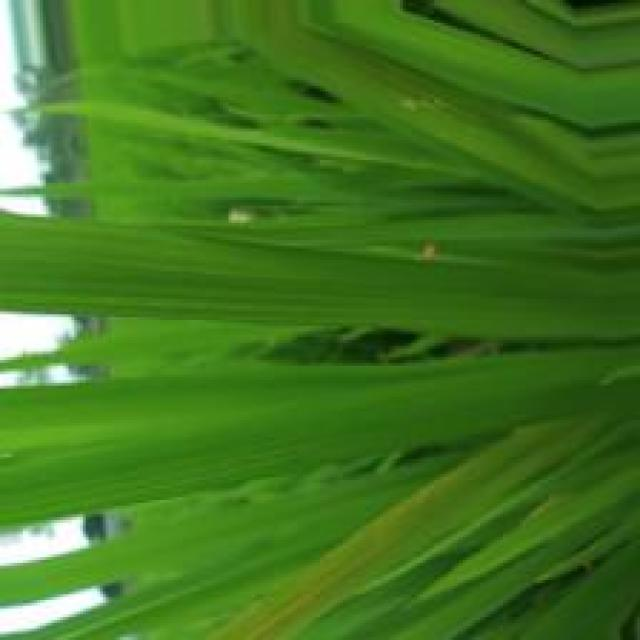HealthyLeaf: (4, 358, 510, 523), (5, 215, 526, 336)
